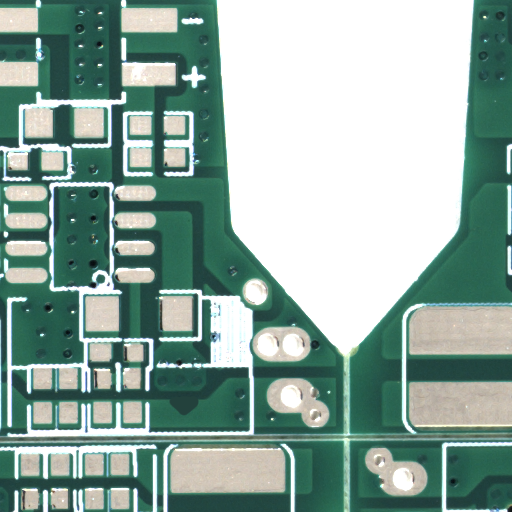Mouse_bite: (185, 407, 215, 425)
